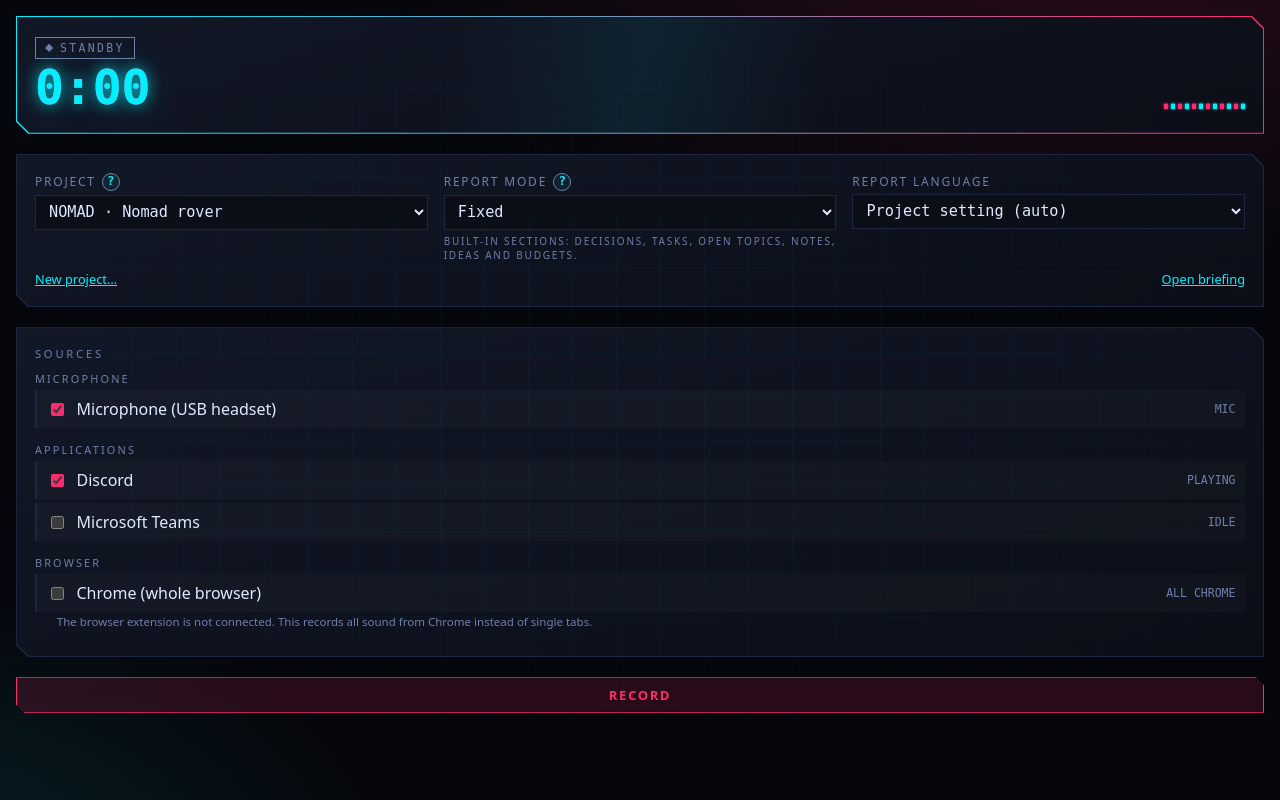
Scenario: Widget › renders compact WaveformEq driven by live levels and persists source selection
Expected: the picture with class "waveform-eq" is shown, left=1164, top=104, right=1245, bottom=109
# Toggling Teams saves updated stable source keys.
Click the checkbox labelled "Microsoft Teams idle": (57, 522) left=50, top=516, right=64, bottom=529
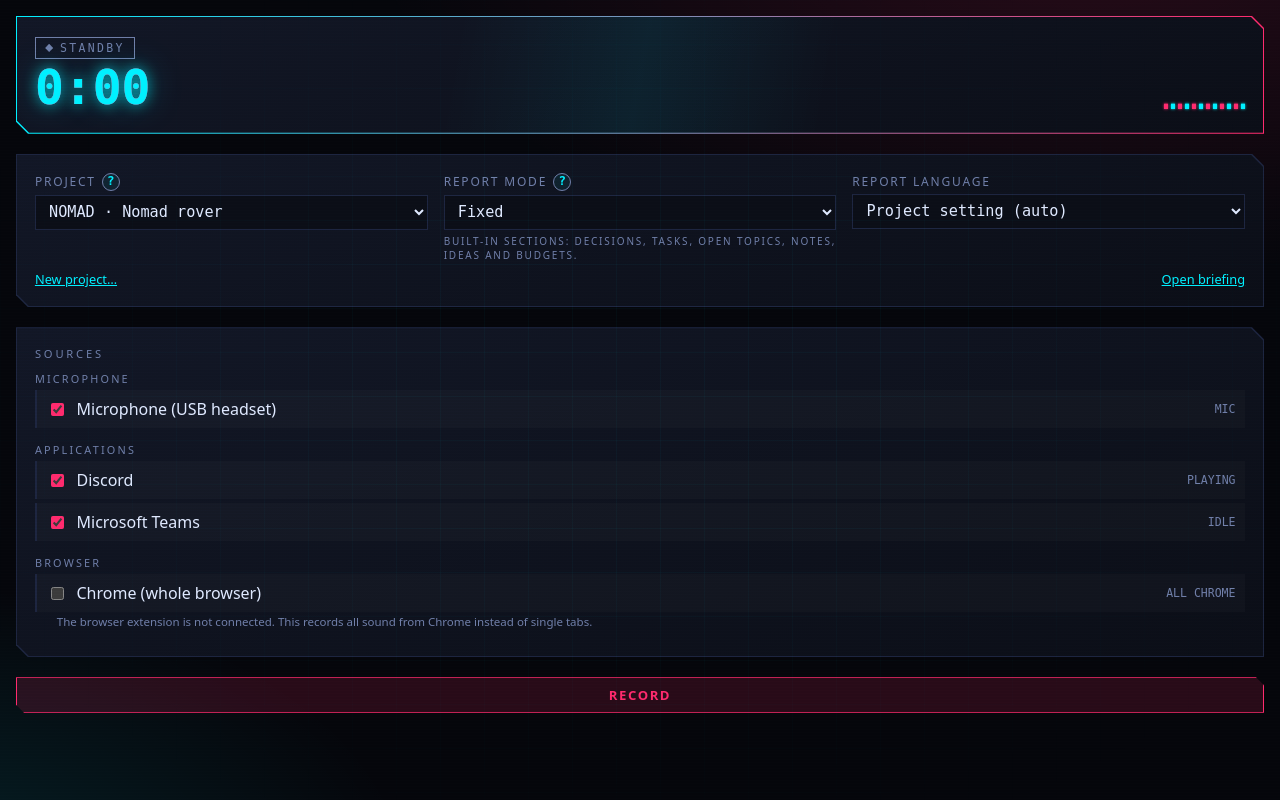
# Start recording and confirm WaveformEq transitions to active with non-zero levels.
Click the button with class "btn-record": (640, 695) left=16, top=677, right=1264, bottom=713
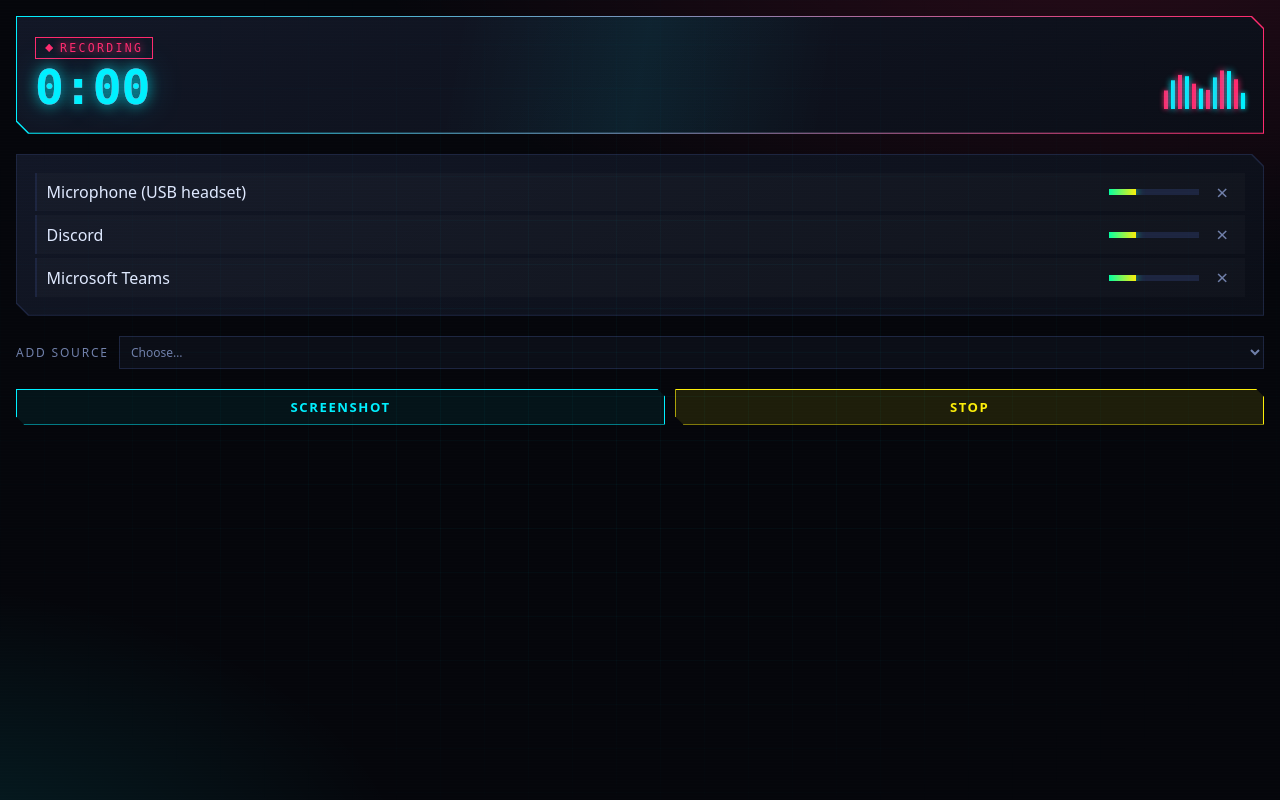
Expected: the picture with class "waveform-eq" has attribute data-active="true", left=1164, top=65, right=1245, bottom=109
Expected: the picture with class "waveform-eq" has class "waveform-eq-live", left=1164, top=65, right=1245, bottom=109
Click the button with class "btn-stop": (970, 407) left=675, top=389, right=1264, bottom=425
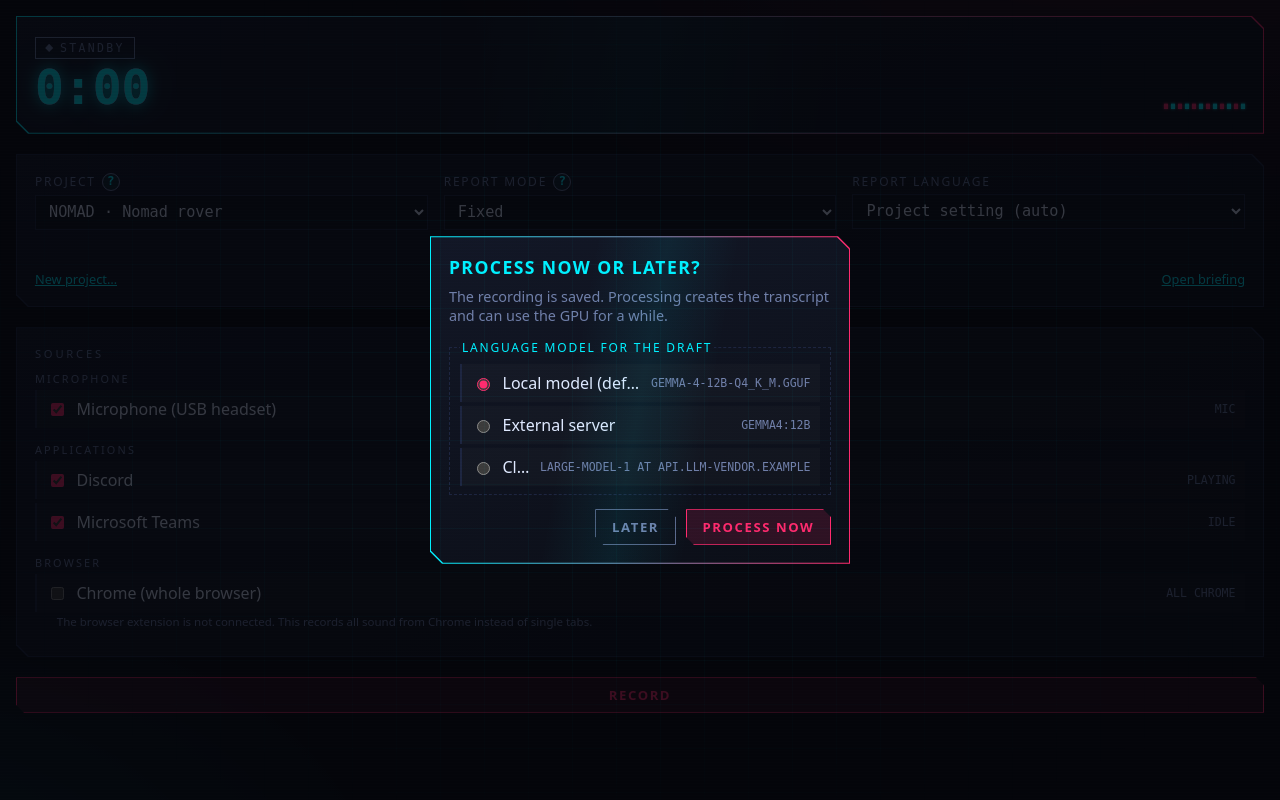
Expected: the dialog is shown, left=430, top=236, right=850, bottom=564
Expected: the dialog shows "Process now or later?", left=449, top=255, right=701, bottom=279
